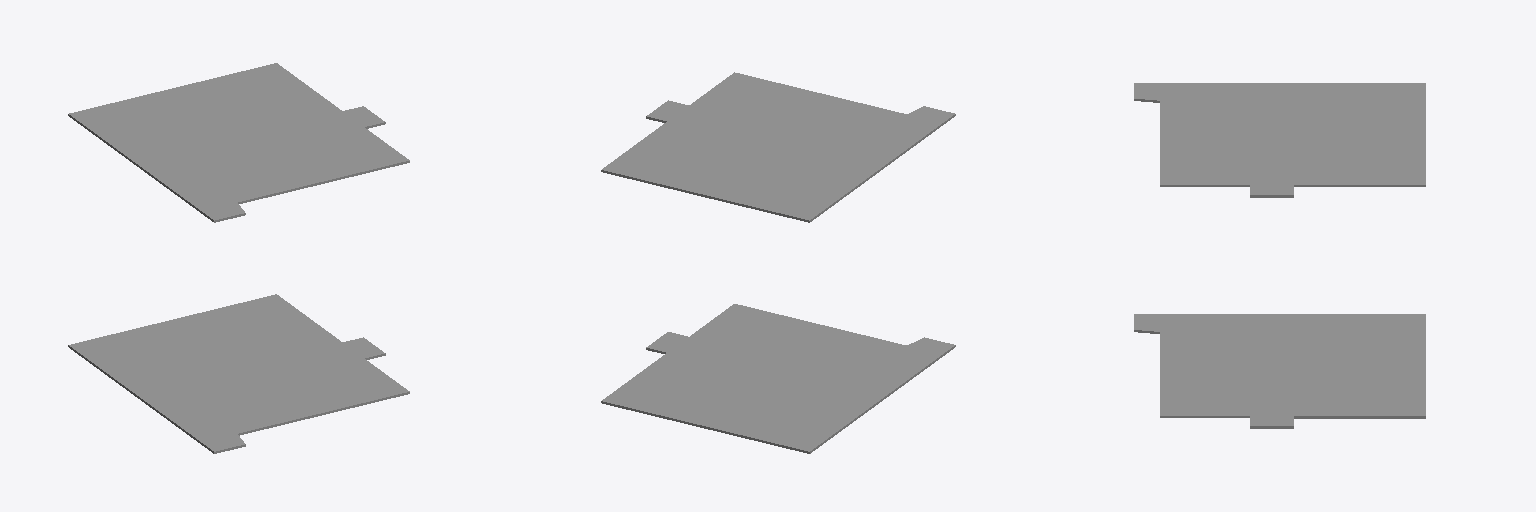
File: scenenet.obj
3 views of the same model, side by side, from view 1: azimuth 30°, elevation 25°; view 2: azimuth 150°, elevation 25°; view 3: azimuth 270°, elevation 25° (orthographic).
Parts seen in each view (by area): view 1: ceiling_floor.001, floor; view 2: ceiling_floor.001, floor; view 3: floor, ceiling_floor.001.
Boxes of the visible parts, x1,y1,x2,y2 form: ceiling_floor.001: [68, 63, 409, 222]; floor: [68, 294, 409, 453]; ceiling_floor.001: [601, 72, 955, 222]; floor: [601, 304, 955, 453]; floor: [1134, 314, 1425, 428]; ceiling_floor.001: [1134, 83, 1425, 197].
Size of the model in its own units: 10.37 by 10.09 by 11.43.